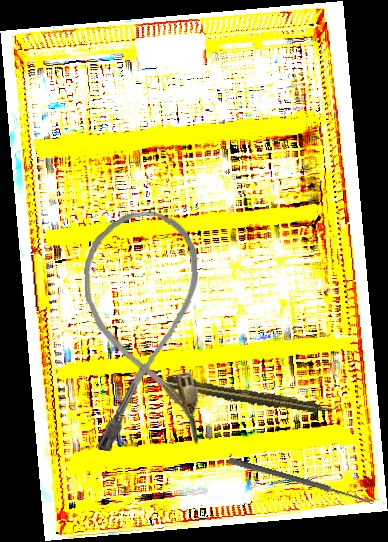Cannula: (82, 209, 204, 452)
Handpiece: (165, 373, 339, 420)
Surgical Spoon: (227, 457, 376, 506)
